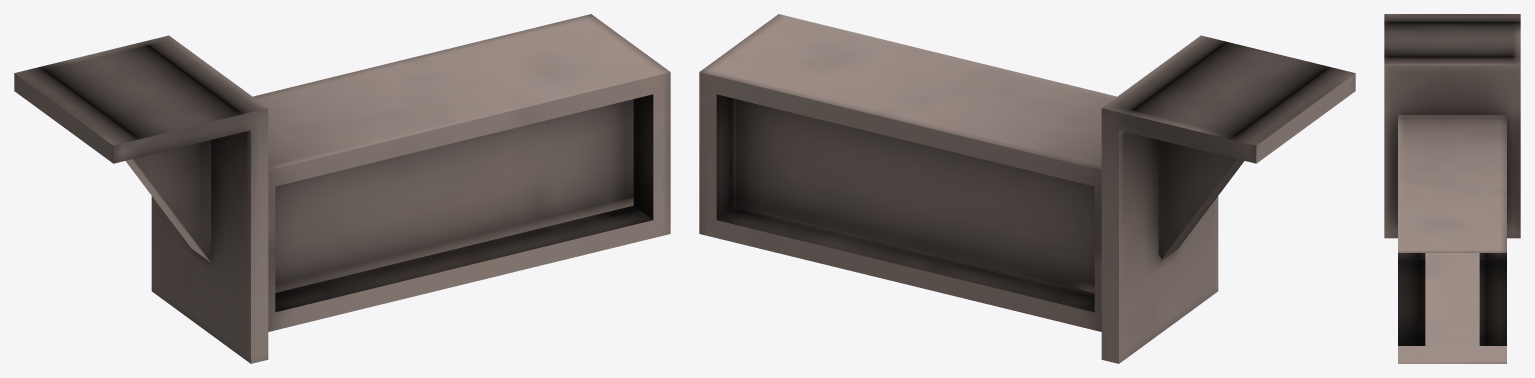
Rendered from short_beam_track_b_walkway_support.obj.
3 renders of one model, left to right at view 1: azimuth 30°, elevation 25°; view 2: azimuth 150°, elevation 25°; view 3: azimuth 270°, elevation 25°, orthographic. The views are drawn at different scales.
Visible parts, largest first — view 1: short_beam_track_b_walkway_support; view 2: short_beam_track_b_walkway_support; view 3: short_beam_track_b_walkway_support.
Part boxes in pixels (x1,y1,x2,y2): short_beam_track_b_walkway_support: (14, 14, 670, 363); short_beam_track_b_walkway_support: (699, 14, 1355, 363); short_beam_track_b_walkway_support: (1384, 14, 1520, 363).
Bounding box in the file's own units: 1.03 × 0.4375 × 0.3125.
1 material, 1 textured.
